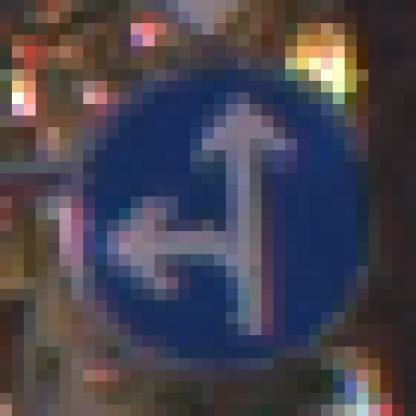Straight or Left: (72, 59, 358, 359)
